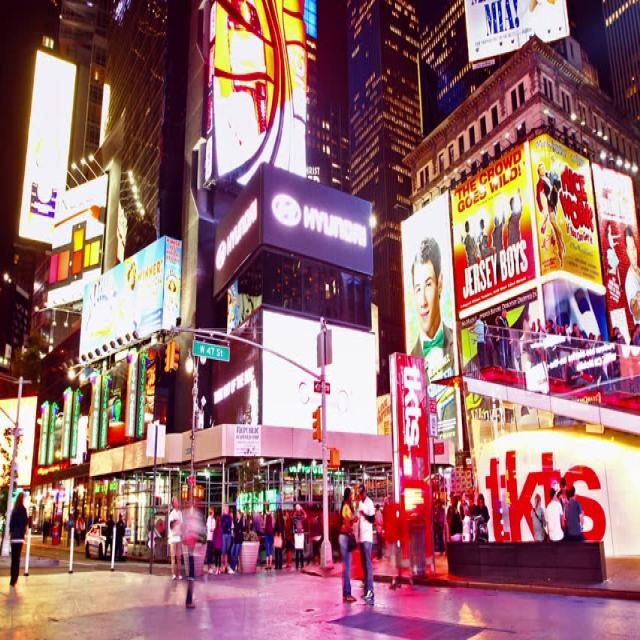body: (405, 159, 640, 380), (146, 511, 296, 556), (121, 255, 179, 328), (356, 483, 376, 601), (337, 486, 357, 602), (8, 489, 28, 587), (37, 511, 99, 537), (387, 498, 402, 590), (168, 495, 184, 580), (445, 489, 461, 574), (544, 487, 566, 544), (565, 484, 587, 541), (227, 285, 255, 328), (289, 504, 307, 569), (432, 487, 451, 548), (449, 492, 464, 568), (227, 508, 243, 575), (468, 312, 485, 371), (610, 326, 623, 394), (530, 492, 548, 541), (262, 501, 274, 571), (205, 504, 216, 575), (272, 506, 284, 570), (493, 313, 506, 371), (211, 513, 223, 575), (282, 507, 294, 569), (498, 307, 510, 369), (310, 507, 322, 565), (102, 512, 116, 561), (220, 503, 232, 556), (474, 492, 491, 529), (373, 503, 384, 560), (534, 316, 546, 367), (436, 497, 447, 552), (556, 476, 571, 515), (483, 318, 495, 366), (458, 490, 471, 534), (382, 495, 392, 552), (114, 511, 125, 561), (521, 310, 532, 354), (466, 492, 478, 517), (569, 323, 581, 348), (631, 321, 640, 346), (74, 513, 80, 547), (546, 317, 556, 336), (79, 513, 86, 540), (530, 320, 537, 339)
